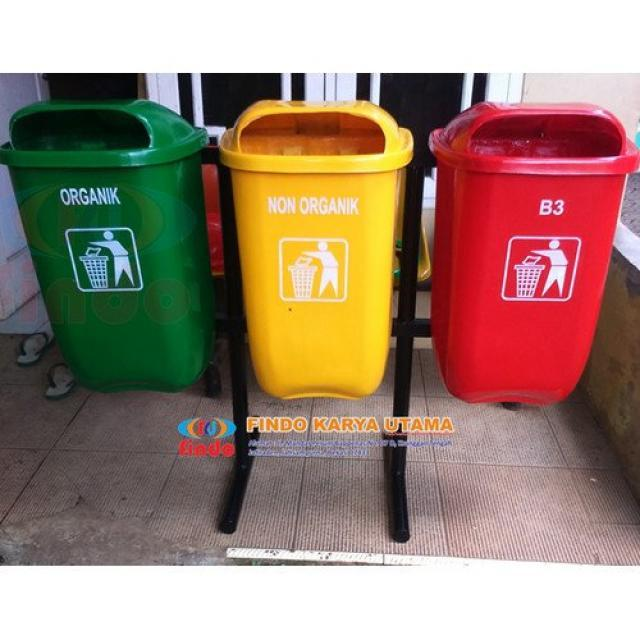Dumpster: (430, 92, 640, 404), (0, 94, 213, 390), (216, 98, 418, 404)
